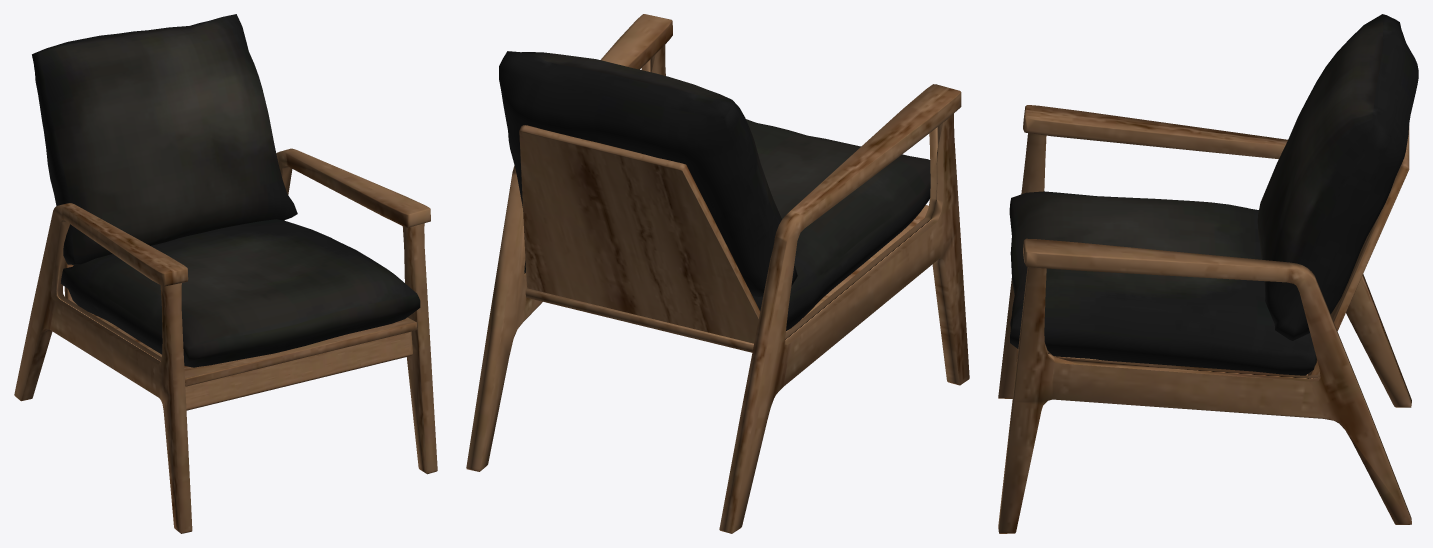
The model's file is armchair.glb.
The picture shows the model from 3 angles, left to right: view 1: azimuth 30°, elevation 25°; view 2: azimuth 150°, elevation 25°; view 3: azimuth 270°, elevation 25°; orthographic projection. The views are drawn at different scales.
Visible parts, largest first — view 1: modern_arm_chair_01; view 2: modern_arm_chair_01; view 3: modern_arm_chair_01.
Boxes of the visible parts, x1,y1,x2,y2 form: modern_arm_chair_01: (14,14,437,533); modern_arm_chair_01: (466,14,969,533); modern_arm_chair_01: (998,14,1418,533).
Bounding box in the file's own units: 0.8204 × 1.02 × 0.9863.
2 materials, 2 textured.
